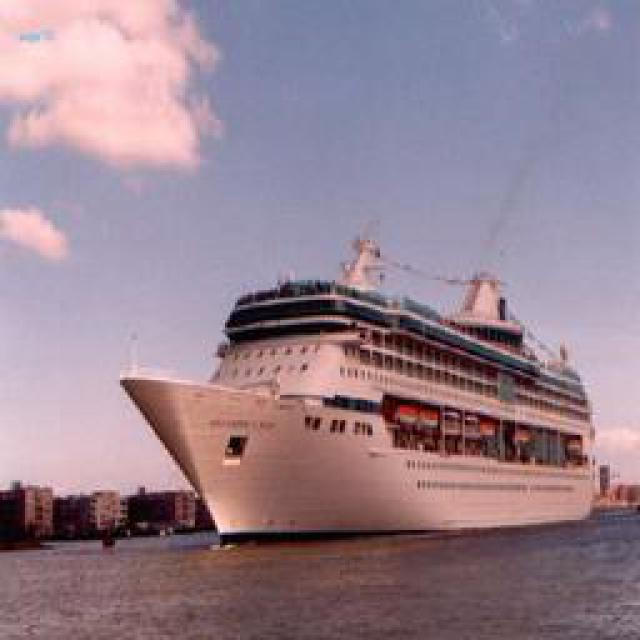Ship: (137, 242, 607, 545)
